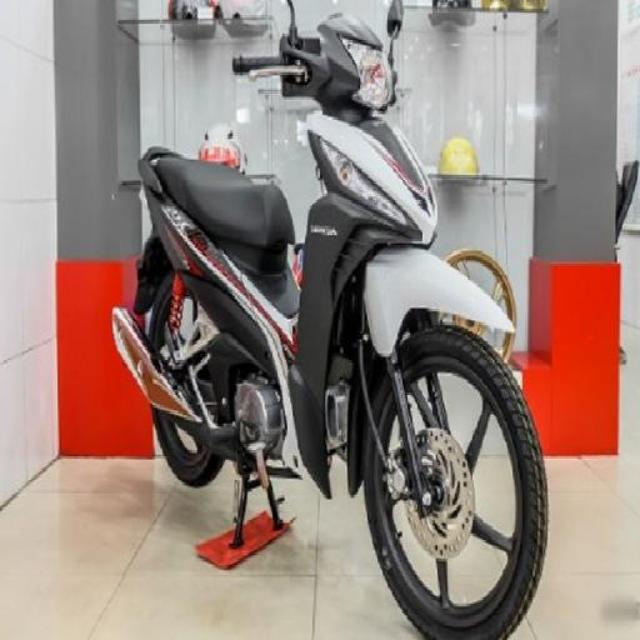All: (107, 7, 562, 640)
Head: (231, 11, 400, 111)
Tail: (132, 135, 197, 213)
